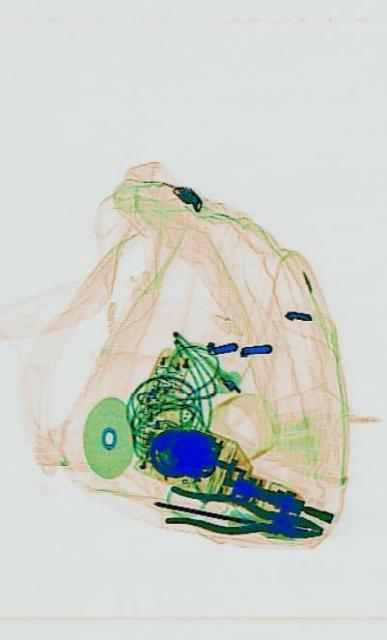Pliers: (164, 486, 323, 548)
